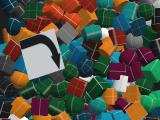Right: (19, 28, 65, 80)
